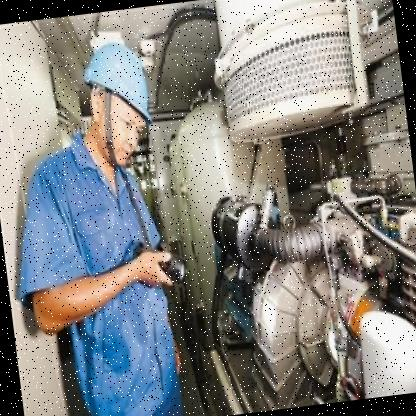capacete: (77, 34, 162, 176)
sem_colete_refletivo: (2, 132, 189, 415)
